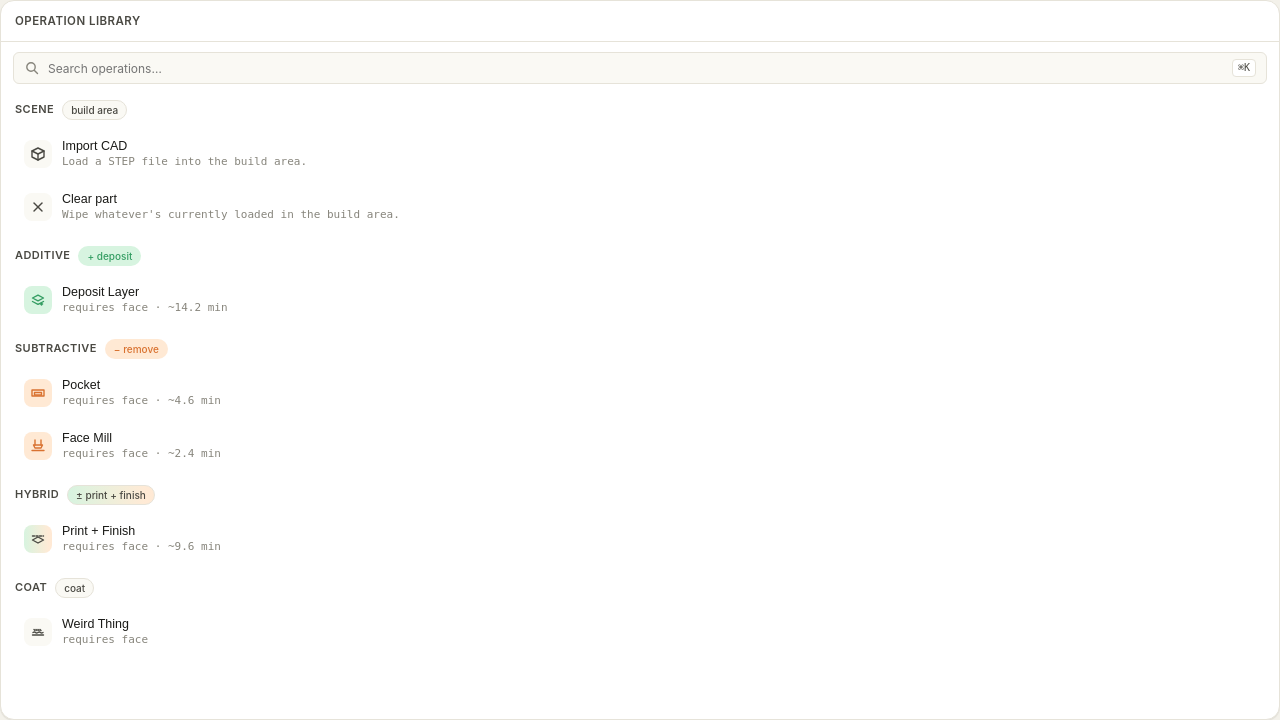
Test: LibraryPanel › filters via the search input
This screenshot has width=1280, height=720.
Type "pocket" into the field with placeholder "Search operations…" at {"x": 636, "y": 68}, box [48,61,1224,76]
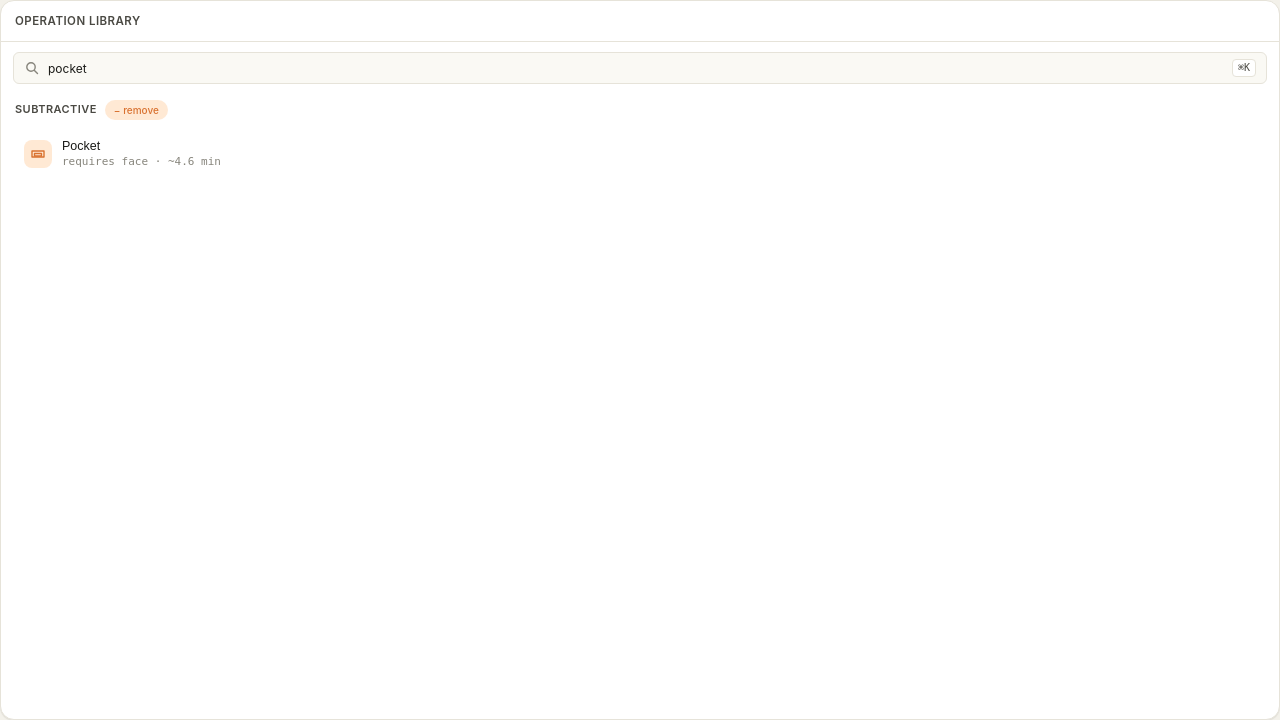
Expected: the text "Pocket" is shown, [62,139,100,153]
Expected: the button "Face Mill" is gone
Expected: the button "Deposit Layer" is gone
